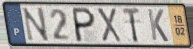2: (50, 8, 72, 42)
K: (146, 8, 171, 44)
N: (21, 6, 51, 43)
P: (72, 6, 97, 44)
T: (121, 7, 141, 45)
X: (95, 6, 123, 43)
